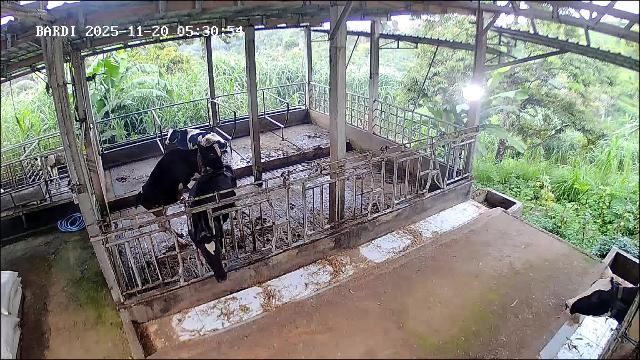mounting: (133, 143, 221, 250)
